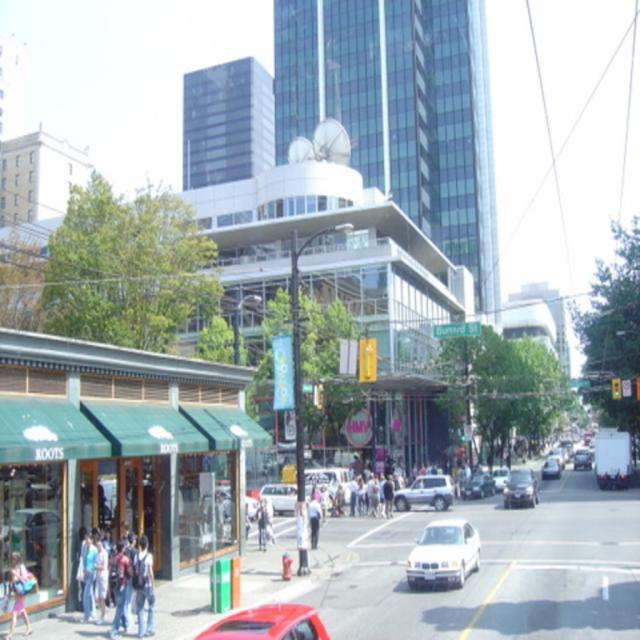car: (403, 509, 479, 582), (505, 459, 540, 509)
